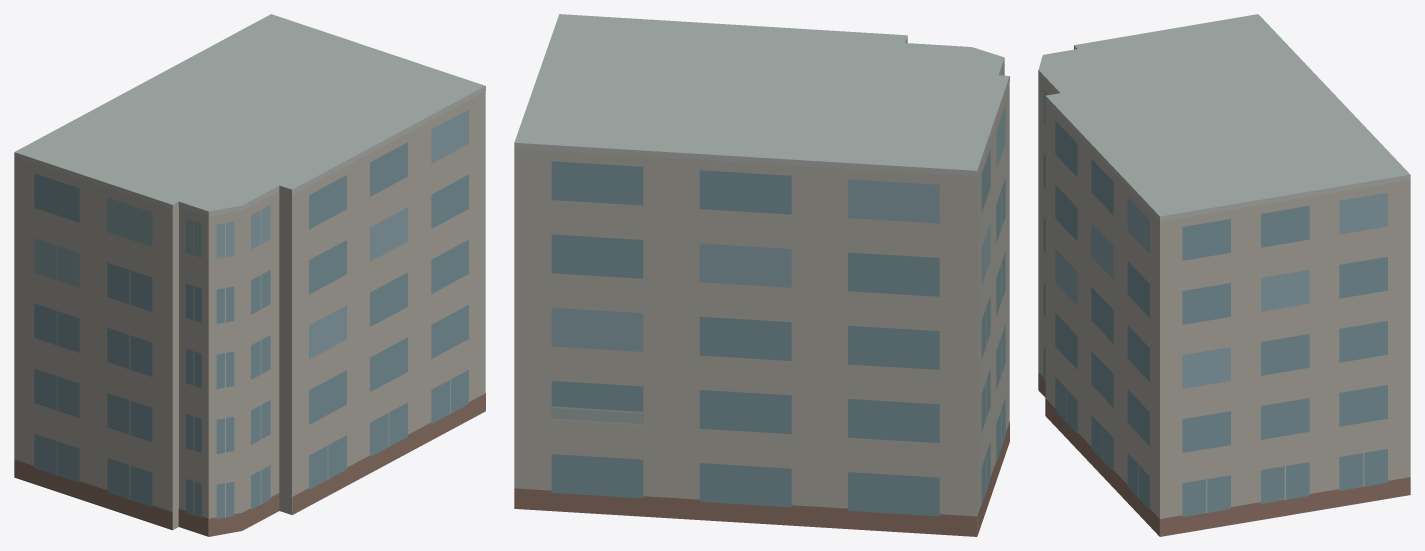
Rendered from survey-upis-32968617.glb.
3 views of the same model, side by side, from view 1: azimuth 30°, elevation 25°; view 2: azimuth 150°, elevation 25°; view 3: azimuth 270°, elevation 25° (orthographic). The views are drawn at different scales.
Visible parts, largest first — view 1: survey-upis-32968617.tmp; view 2: survey-upis-32968617.tmp; view 3: survey-upis-32968617.tmp.
Boxes of the visible parts, <box> form: survey-upis-32968617.tmp: <box>14,14,485,536</box>; survey-upis-32968617.tmp: <box>514,14,1009,536</box>; survey-upis-32968617.tmp: <box>1038,14,1410,536</box>.
Size of the model in its own units: 20.68 by 15.25 by 16.06.
